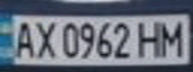0: (57, 19, 81, 60)
2: (112, 19, 136, 60)
6: (93, 19, 115, 60)
9: (75, 19, 96, 60)
A: (9, 18, 39, 60)
H: (136, 18, 166, 58)
M: (154, 17, 190, 57)
X: (30, 18, 57, 60)
